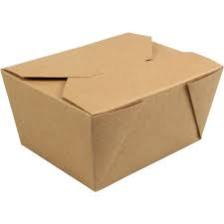cardboard: (1, 29, 204, 191)
